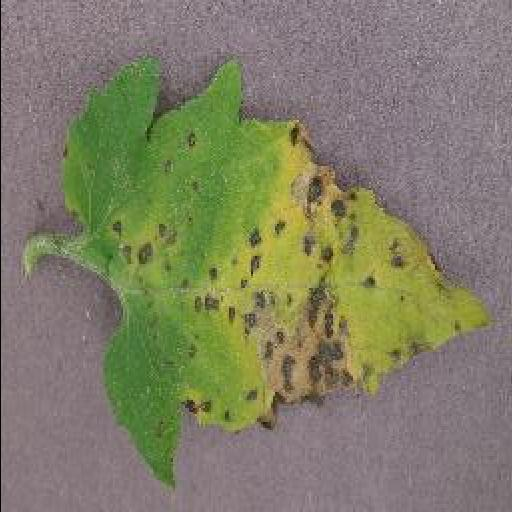disease_tomato: (60, 52, 494, 494)
